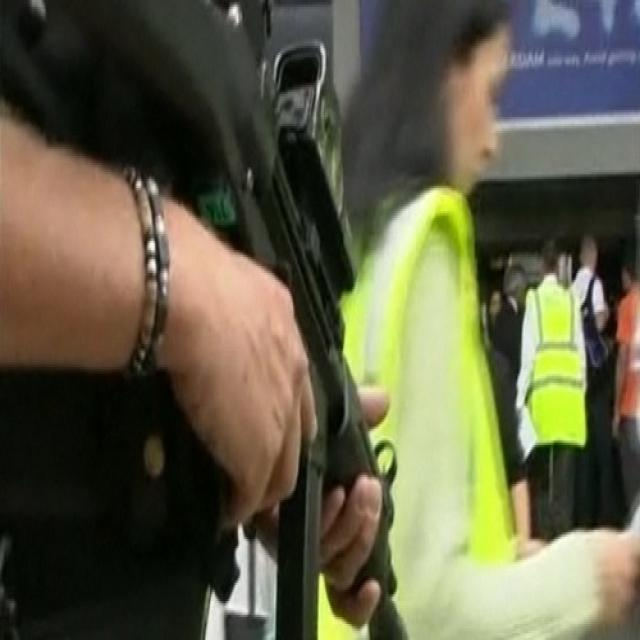rifle: (76, 1, 415, 640)
